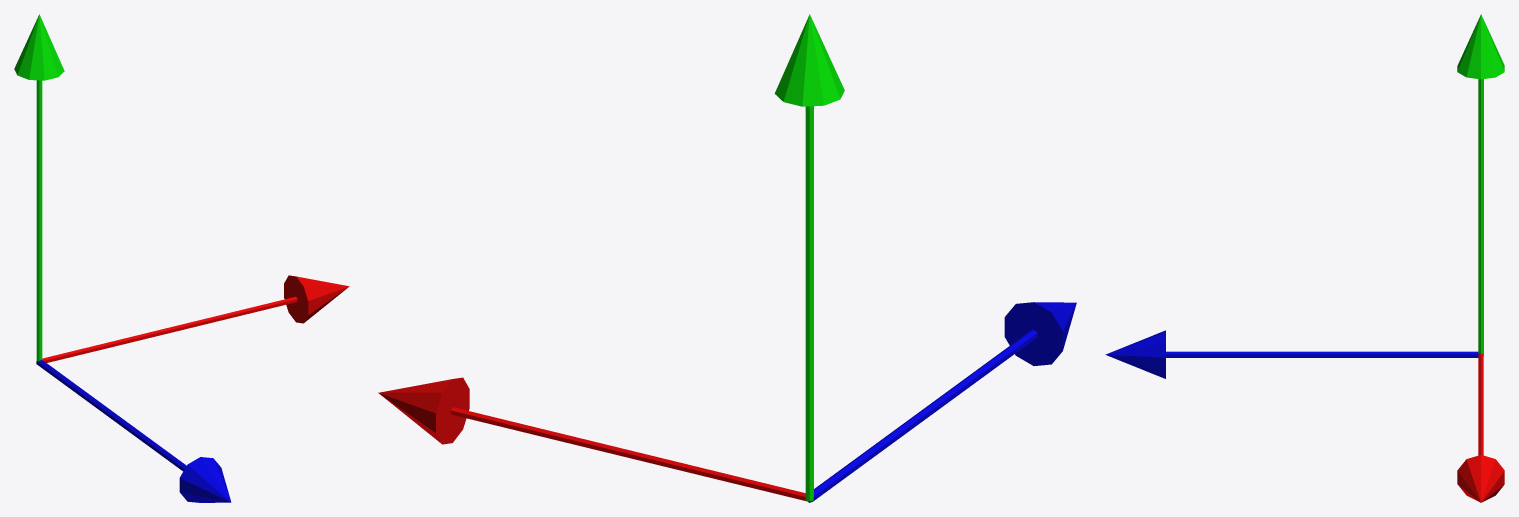
The model's file is axis_zero.fbx.
3 views of the same model, side by side, from view 1: azimuth 30°, elevation 25°; view 2: azimuth 150°, elevation 25°; view 3: azimuth 270°, elevation 25° (orthographic). The views are drawn at different scales.
Parts seen in each view (by area): view 1: polySurface1; view 2: polySurface1; view 3: polySurface1.
Boxes of the visible parts, <box> form: polySurface1: <box>14,14,349,502</box>; polySurface1: <box>378,14,1076,502</box>; polySurface1: <box>1105,14,1504,502</box>.
Bounding box in the file's own units: 4.32 × 4.6 × 4.59.
